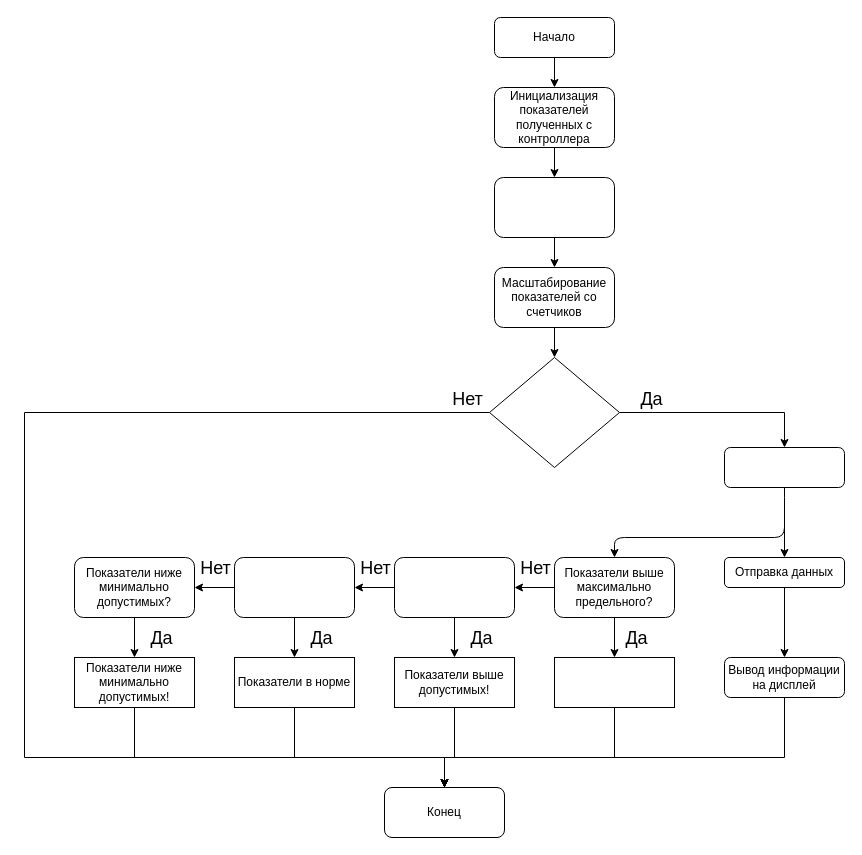
The diagram is 862 pixels wide and 855 high, and some of its shapes have lost their labels. Each missing label, with the centre of its shape:
Показатели выше максимально допустимых?: (x=454, y=587)
Показатели выше минимально допустимых?: (x=294, y=587)
Показатели выше предельных!: (x=614, y=682)
Показатели изменились?: (x=554, y=412)
Проверка на достоверность кода входного сигнала АЦП: (x=554, y=207)
Формирование пакета данных: (x=784, y=467)
